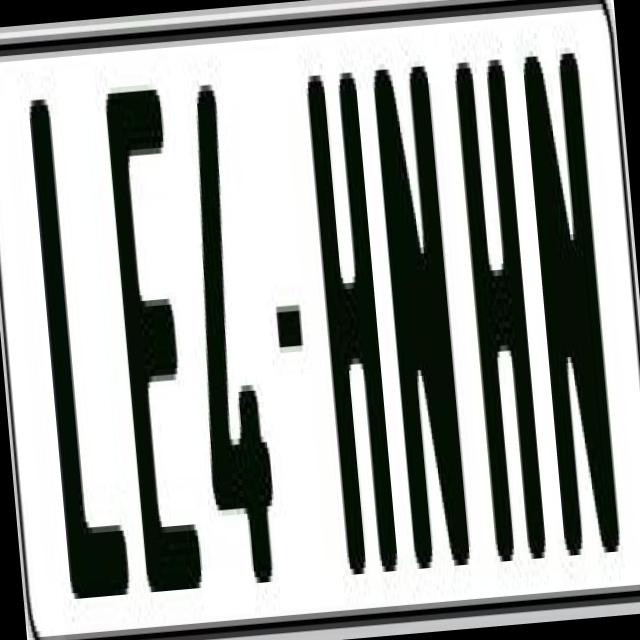4: (176, 76, 278, 580)
E: (100, 72, 200, 581)
H: (302, 59, 404, 563), (449, 48, 545, 568)
L: (24, 95, 130, 600)
N: (368, 65, 472, 592), (521, 46, 621, 567)
